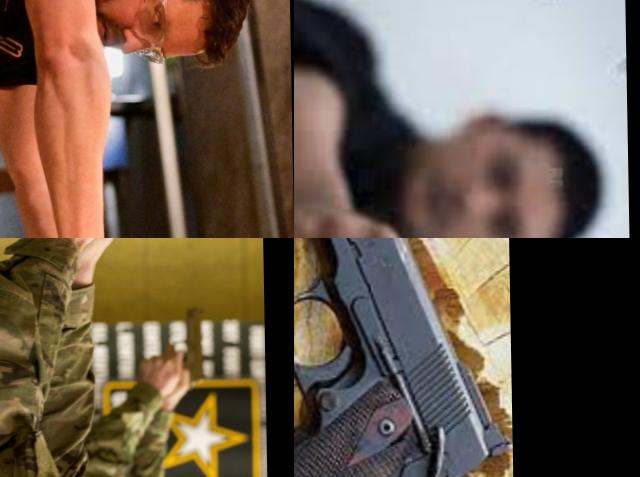handgun: (294, 238, 514, 477), (80, 238, 150, 306)
